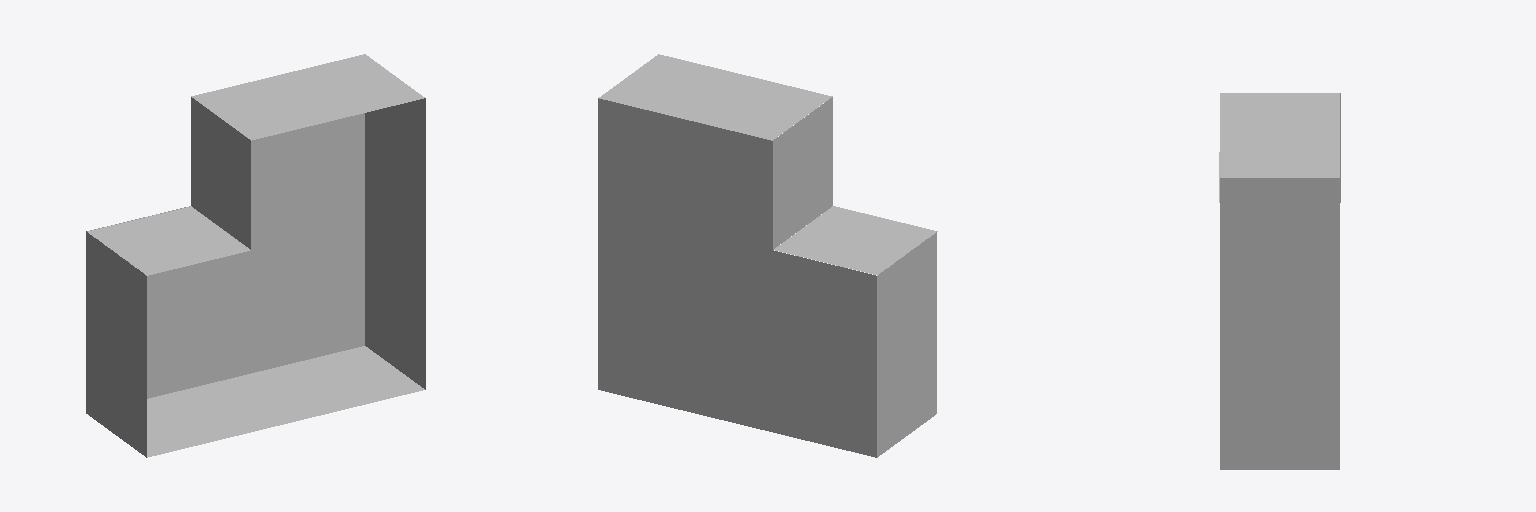
The model's file is box_inverted_corner.obj.
3 renders of one model, left to right at view 1: azimuth 30°, elevation 25°; view 2: azimuth 150°, elevation 25°; view 3: azimuth 270°, elevation 25°, orthographic.
Visible parts, largest first — view 1: Plane, Plane.002_Plane.005, Plane.001_Plane.004; view 2: Plane, Plane.002_Plane.005, Plane.001_Plane.004; view 3: Plane.
Part boxes in pixels (x1,y1,x2,y2): Plane: (86,54,425,457); Plane.002_Plane.005: (191,97,250,249); Plane.001_Plane.004: (88,206,250,275); Plane: (598,54,936,457); Plane.002_Plane.005: (773,97,832,249); Plane.001_Plane.004: (774,206,937,275); Plane: (1220,93,1339,469).
Size of the model in its own units: 2 by 2 by 0.7567.